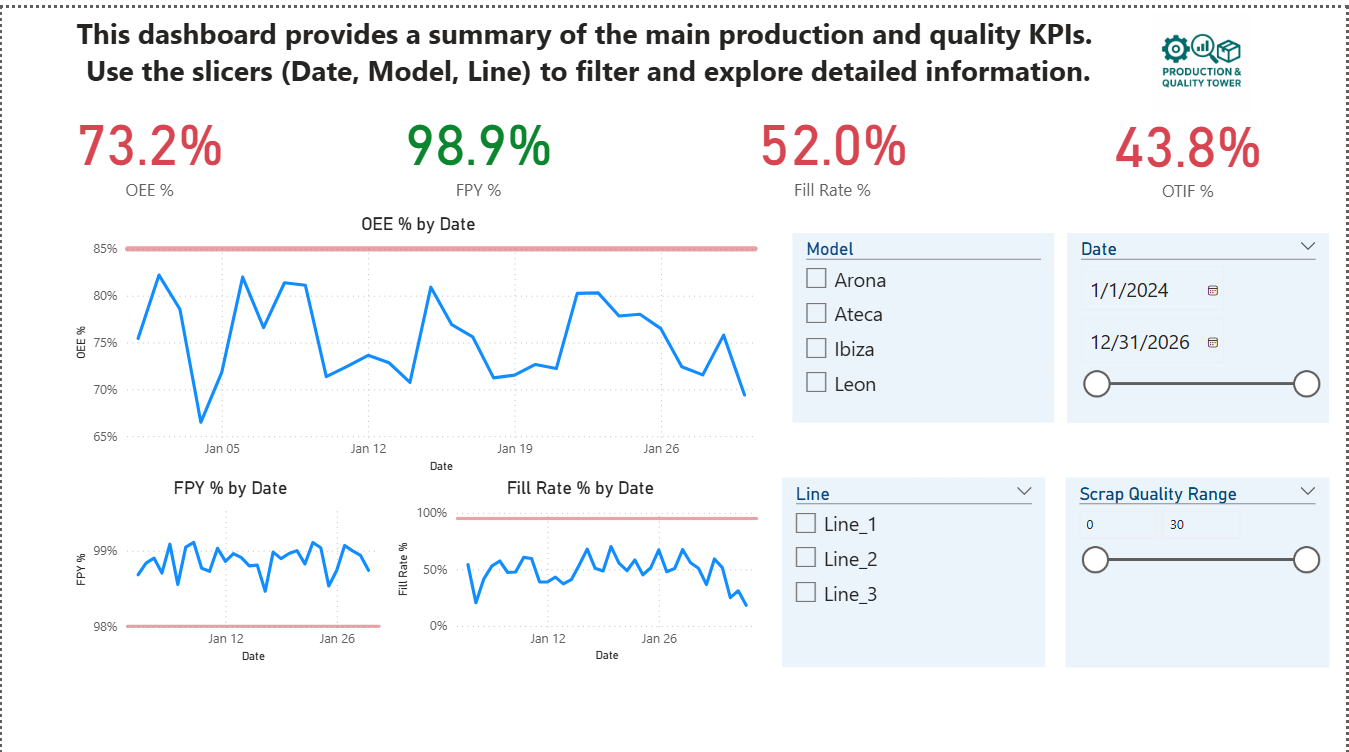

The page's visual inventory and layout, read from the dashboard file:
{"tool":"powerbi","page":{"name":"Landing","canvas":[1280,720],"ordinal":0},"visuals":[{"type":"card","fields":{"Values":["_Measures.OEE %"]},"box":[39.8,84.9,200.3,99.5],"z":0},{"type":"slicer","fields":{"Values":["Dim_Date.Date"]},"box":[1014.7,214.9,249.4,180.4],"z":1000},{"type":"card","fields":{"Values":["_Measures.FPY %"]},"box":[328.5,84.9,249.4,99.5],"z":2000},{"type":"slicer","fields":{"Values":["Dim_Model.model_id"]},"box":[753.4,214.9,249.4,180.4],"z":3000},{"type":"card","fields":{"Values":["_Measures.Fill Rate %"]},"box":[666.3,84.9,249.4,99.5],"z":4000},{"type":"slicer","fields":{"Values":["Production_Shifts.line_id"]},"box":[742.8,447,250.7,180.4],"z":5000},{"type":"card","fields":{"Values":["_Measures.OTIF %"]},"box":[1004.1,86.2,249.4,99.5],"z":6000},{"type":"slicer","fields":{"Values":["Production_Shifts.scrap_qty"]},"box":[1013.4,447,250.7,180.4],"z":7000},{"type":"lineChart","fields":{"Y":["_Measures.OEE %"],"Category":["Dim_Date.Date"]},"box":[65,196.3,664.5,250.7],"z":8000},{"type":"textbox","box":[65,0,988.2,84.9],"z":9000},{"type":"lineChart","fields":{"Category":["Dim_Date.Date"],"Y":["_Measures.FPY %"]},"box":[65,447,306.4,180.4],"z":10000},{"type":"lineChart","fields":{"Category":["Dim_Date.Date"],"Y":["_Measures.Fill Rate %"]},"box":[371,447,359,180],"z":11000},{"type":"image","box":[1002.8,0,277.2,104.8],"z":12000}]}

Visuals, with their boxes in screenshot pixels (x1, y1, x2, y2), scaled from the page's 1280x720 canvas onto the 1349x752 screenshot:
card - _Measures.OEE %: 42/89/253/193
slicer - Dim_Date.Date: 1069/224/1332/413
card - _Measures.FPY %: 346/89/609/193
slicer - Dim_Model.model_id: 794/224/1057/413
card - _Measures.Fill Rate %: 702/89/965/193
slicer - Production_Shifts.line_id: 783/467/1047/655
card - _Measures.OTIF %: 1058/90/1321/194
slicer - Production_Shifts.scrap_qty: 1068/467/1332/655
lineChart - _Measures.OEE % x Dim_Date.Date: 69/205/769/467
textbox: 69/0/1110/89
lineChart - Dim_Date.Date x _Measures.FPY %: 69/467/391/655
lineChart - Dim_Date.Date x _Measures.Fill Rate %: 391/467/769/655
image: 1057/0/1348/109
